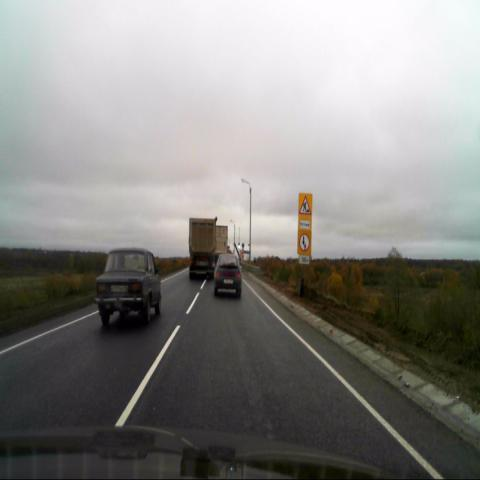2_6: (298, 230, 311, 255)
